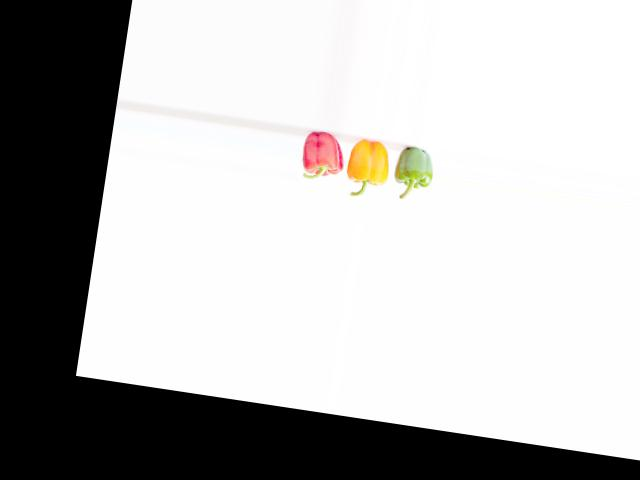bell_pepper: (294, 130, 348, 193)
